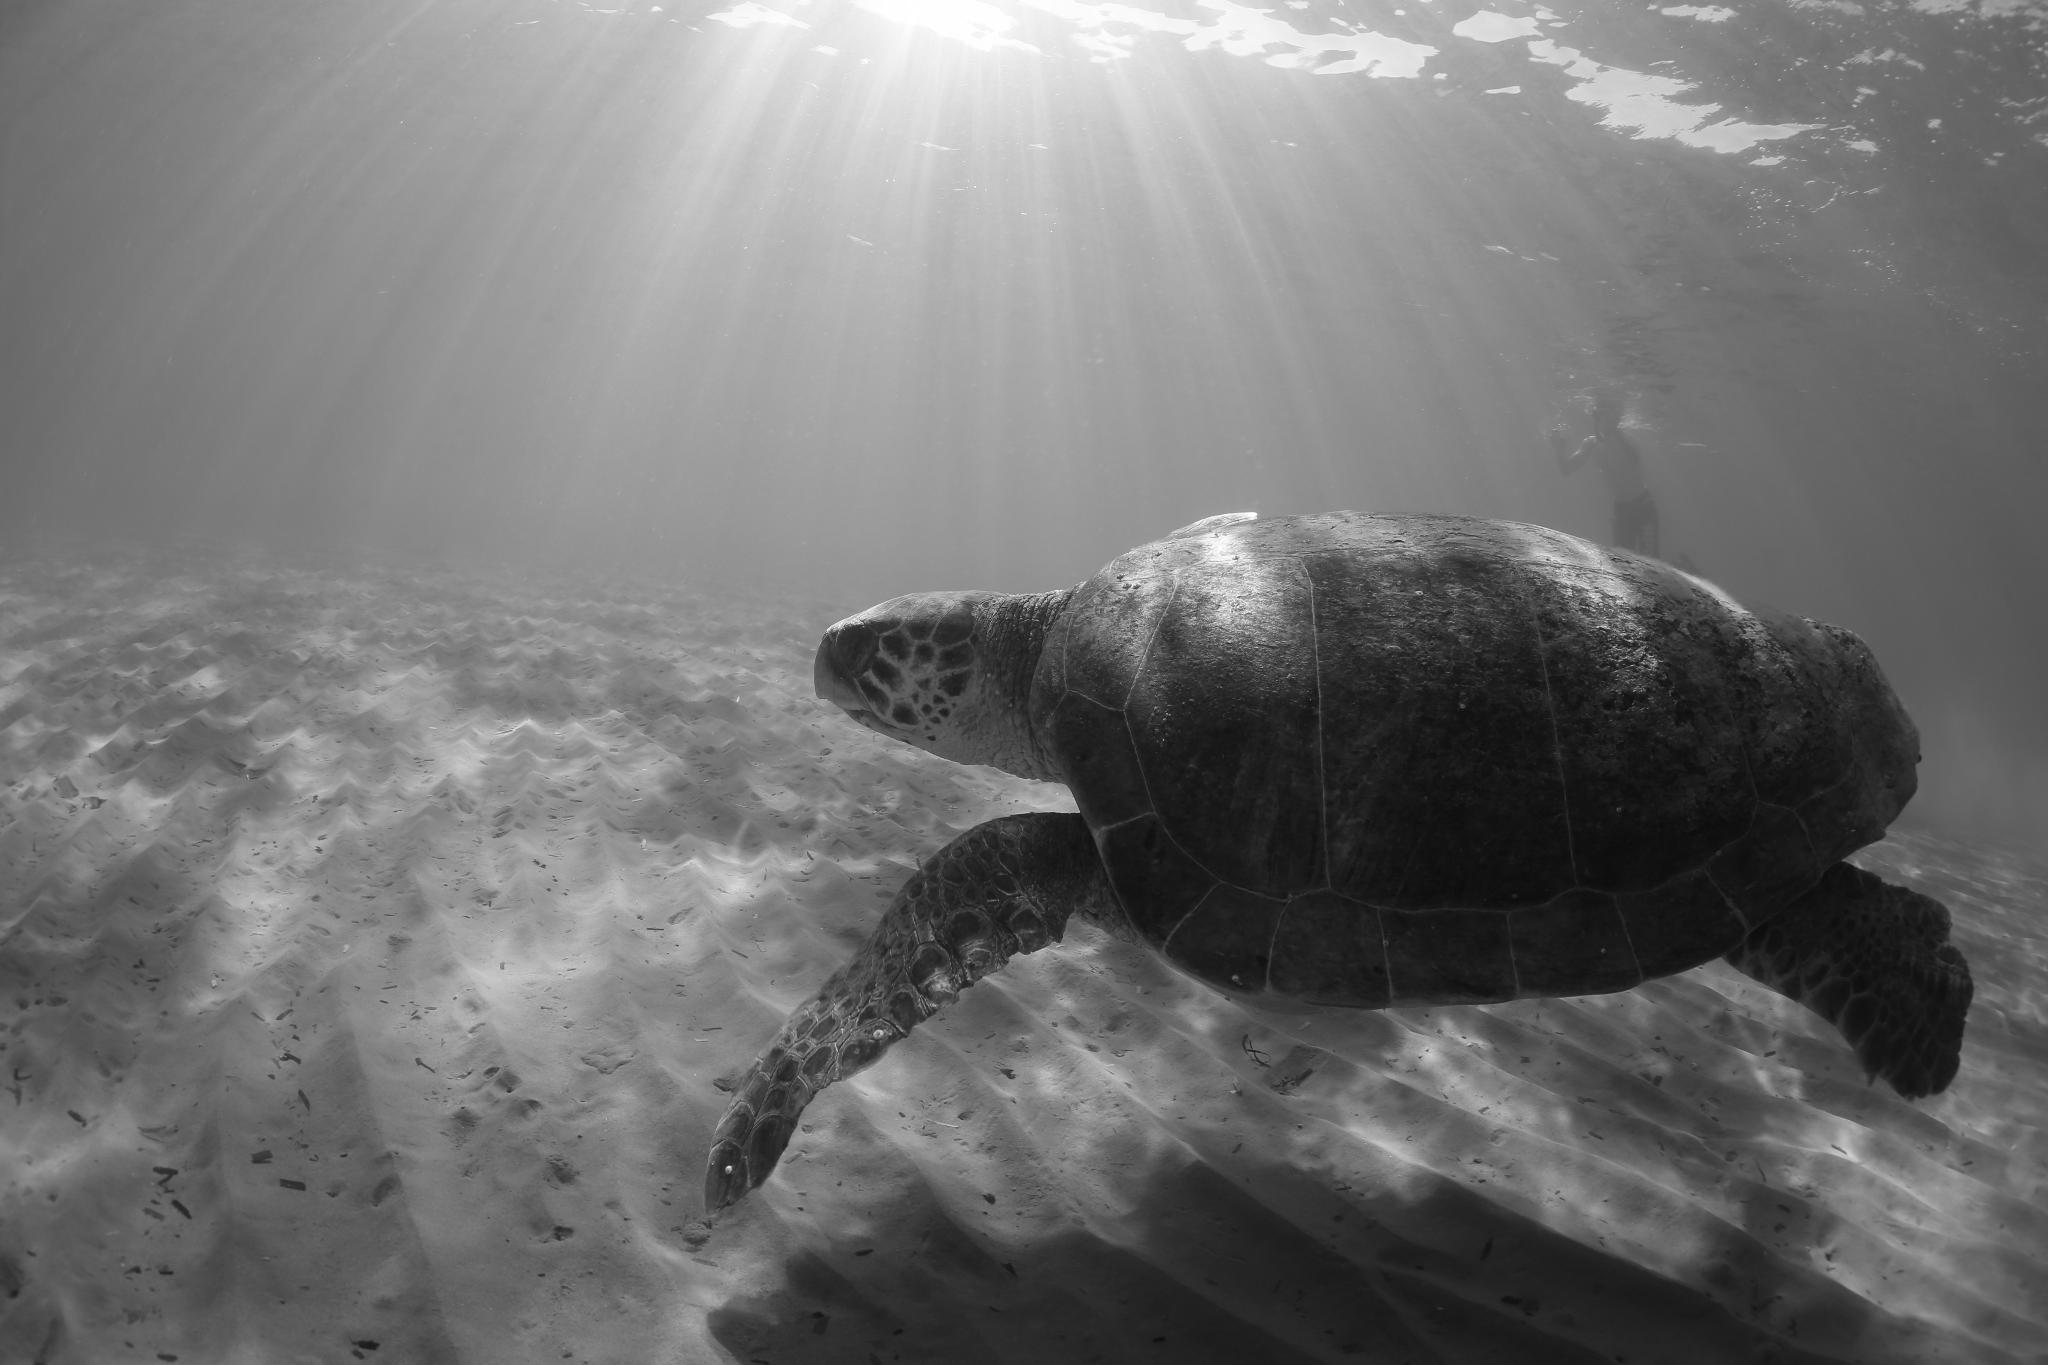Head: (814, 591, 1072, 782)
